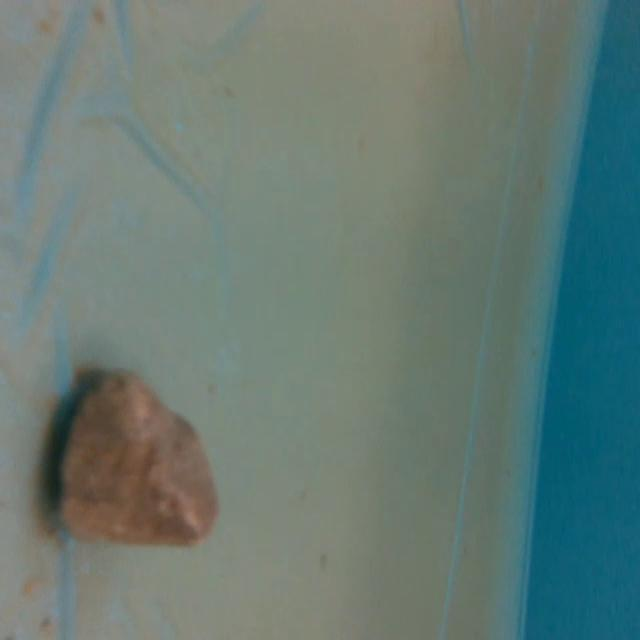rock: (54, 366, 227, 558)
